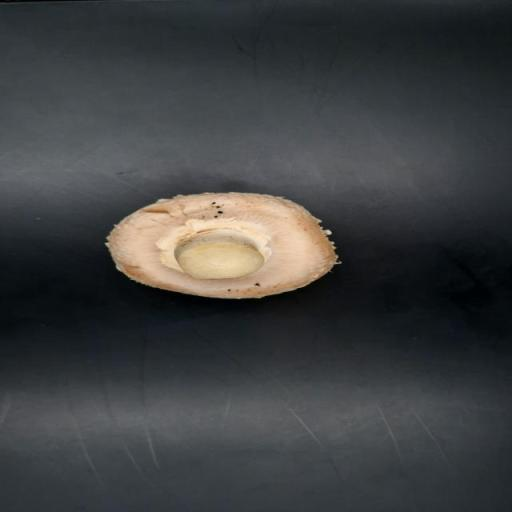mushroom: (106, 192, 340, 301)
